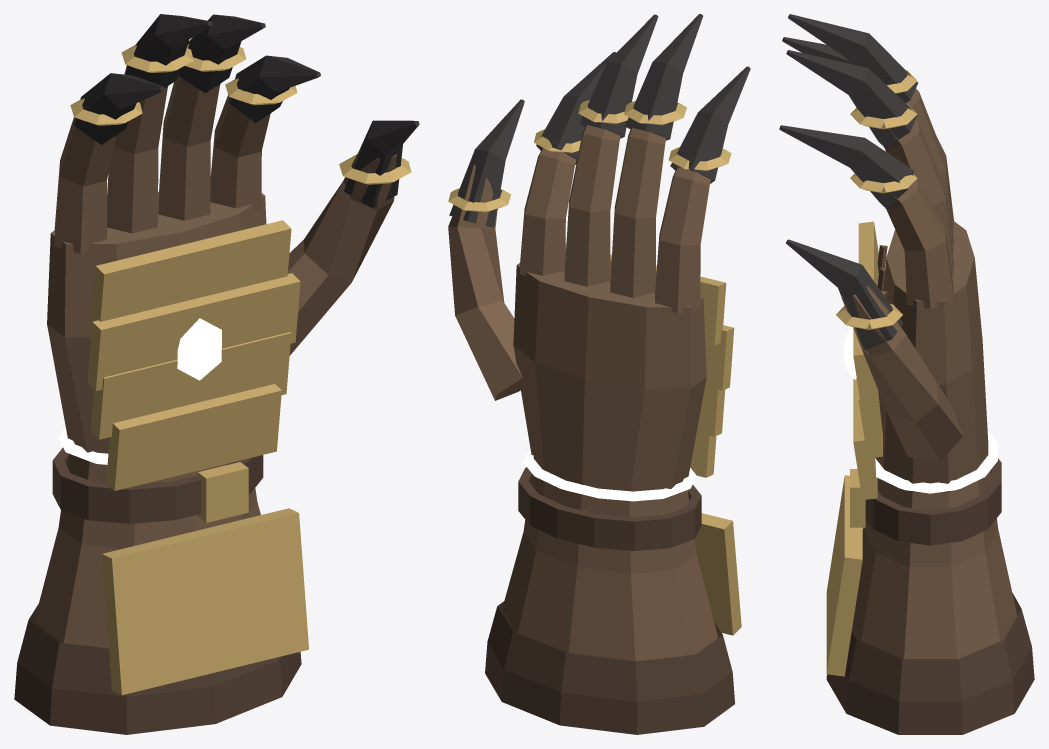
Rendered from relic-gauntlet.glb.
3 renders of one model, left to right at view 1: azimuth 30°, elevation 25°; view 2: azimuth 150°, elevation 25°; view 3: azimuth 270°, elevation 25°, orthographic. The views are drawn at different scales.
Parts seen in each view (by area): view 1: glove_body; view 2: glove_body; view 3: glove_body.
Boxes of the visible parts, x1=… form: glove_body: x1=14, y1=14, x2=419, y2=734; glove_body: x1=448, y1=14, x2=750, y2=734; glove_body: x1=779, y1=14, x2=1034, y2=734.
Bounding box in the file's own units: 0.2734 × 0.5553 × 0.1963.
